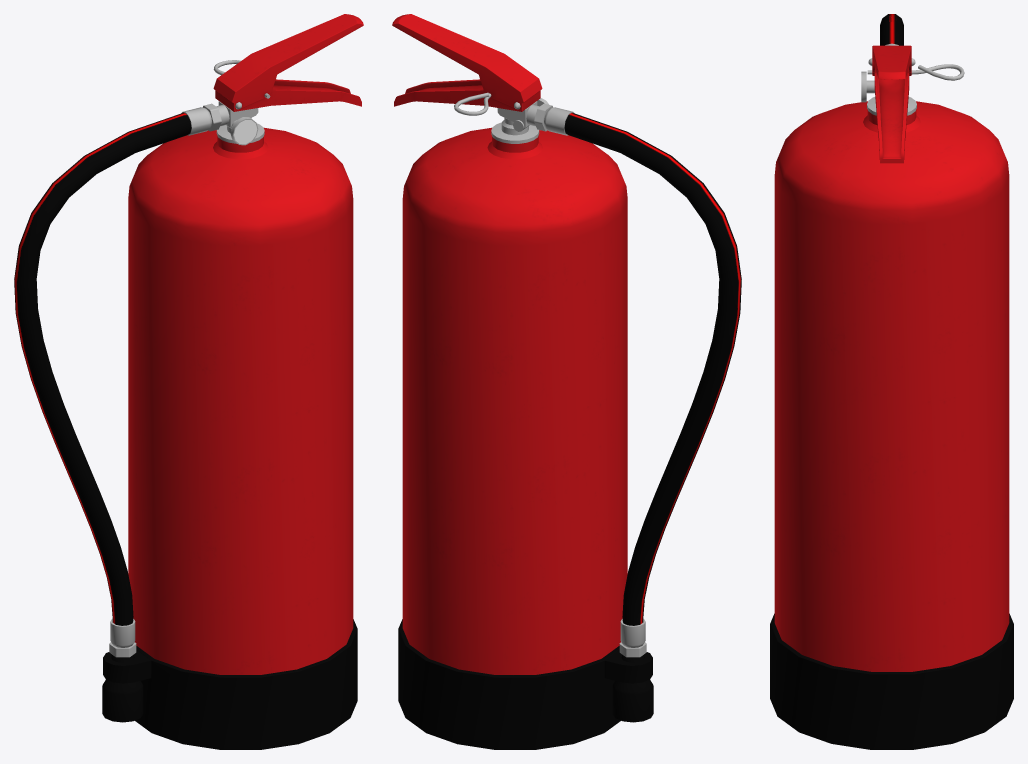
Rendered from FireExtinguisher.fbx.
3 views of the same model, side by side, from view 1: azimuth 30°, elevation 25°; view 2: azimuth 150°, elevation 25°; view 3: azimuth 270°, elevation 25° (orthographic). The views are drawn at different scales.
Visible parts, largest first — view 1: TubeBody, Pipe_low, UpHandle_low, Nozzle_low; view 2: TubeBody, Pipe_low, UpHandle_low, Nozzle_low; view 3: TubeBody, UpHandle_low, Pipe_low, Pim_low.
Boxes of the visible parts, <box> form: TubeBody: <box>103,79,361,749</box>; Pipe_low: <box>14,112,191,625</box>; UpHandle_low: <box>213,14,363,111</box>; Nozzle_low: <box>102,618,143,722</box>; TubeBody: <box>394,79,652,749</box>; Pipe_low: <box>564,112,741,625</box>; UpHandle_low: <box>392,14,542,111</box>; Nozzle_low: <box>612,618,653,722</box>; TubeBody: <box>770,43,1013,749</box>; UpHandle_low: <box>868,45,915,79</box>; Pipe_low: <box>880,14,903,45</box>; Pim_low: <box>867,64,964,80</box>.
Size of the model in its own units: 0.3172 by 0.1864 by 0.5777.
